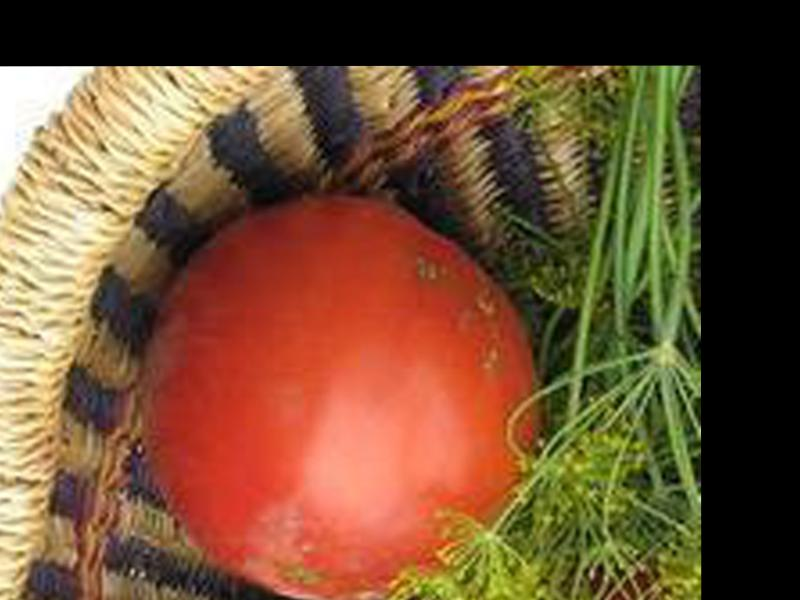Tomato: (141, 199, 543, 600)
